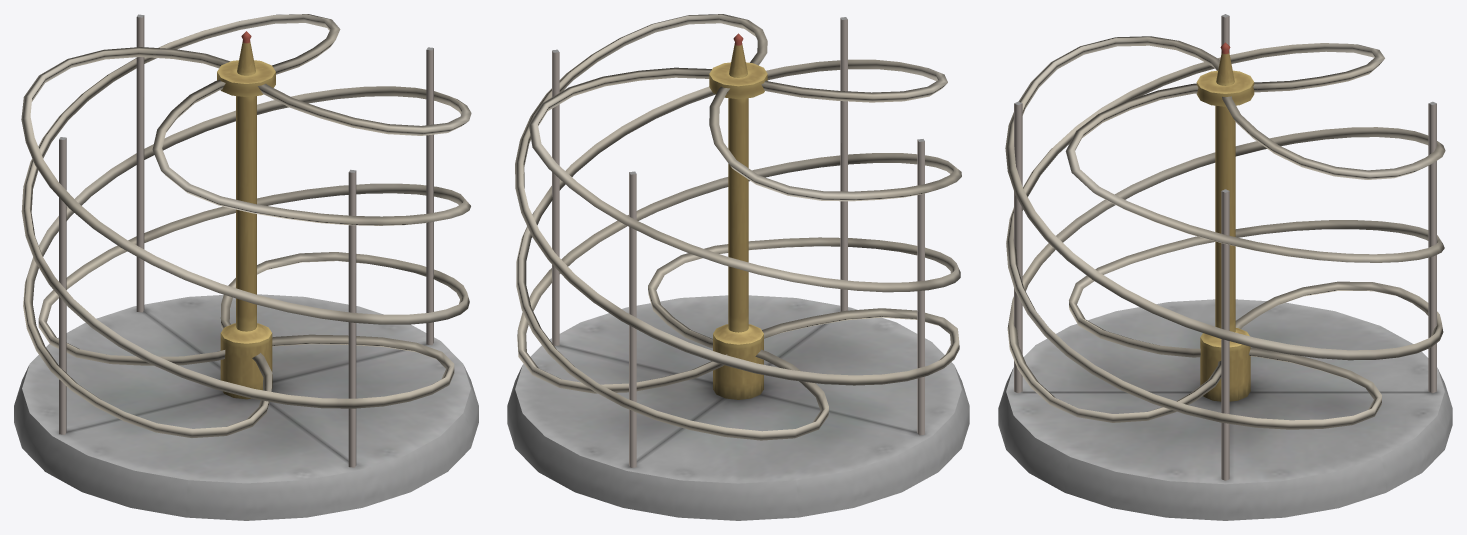
File: Telstar_new.dae
The picture shows the model from 3 angles, left to right: view 1: azimuth 30°, elevation 25°; view 2: azimuth 150°, elevation 25°; view 3: azimuth 270°, elevation 25°; orthographic projection. The views are drawn at different scales.
Visible parts, largest first — view 1: TelstarAntenna3; view 2: TelstarAntenna3; view 3: TelstarAntenna3.
Boxes of the visible parts, x1,y1,x2,y2 form: TelstarAntenna3: (14,14,478,520); TelstarAntenna3: (507,14,969,520); TelstarAntenna3: (998,14,1452,520).
Bounding box in the file's own units: 0.2095 × 0.1948 × 0.2095.
